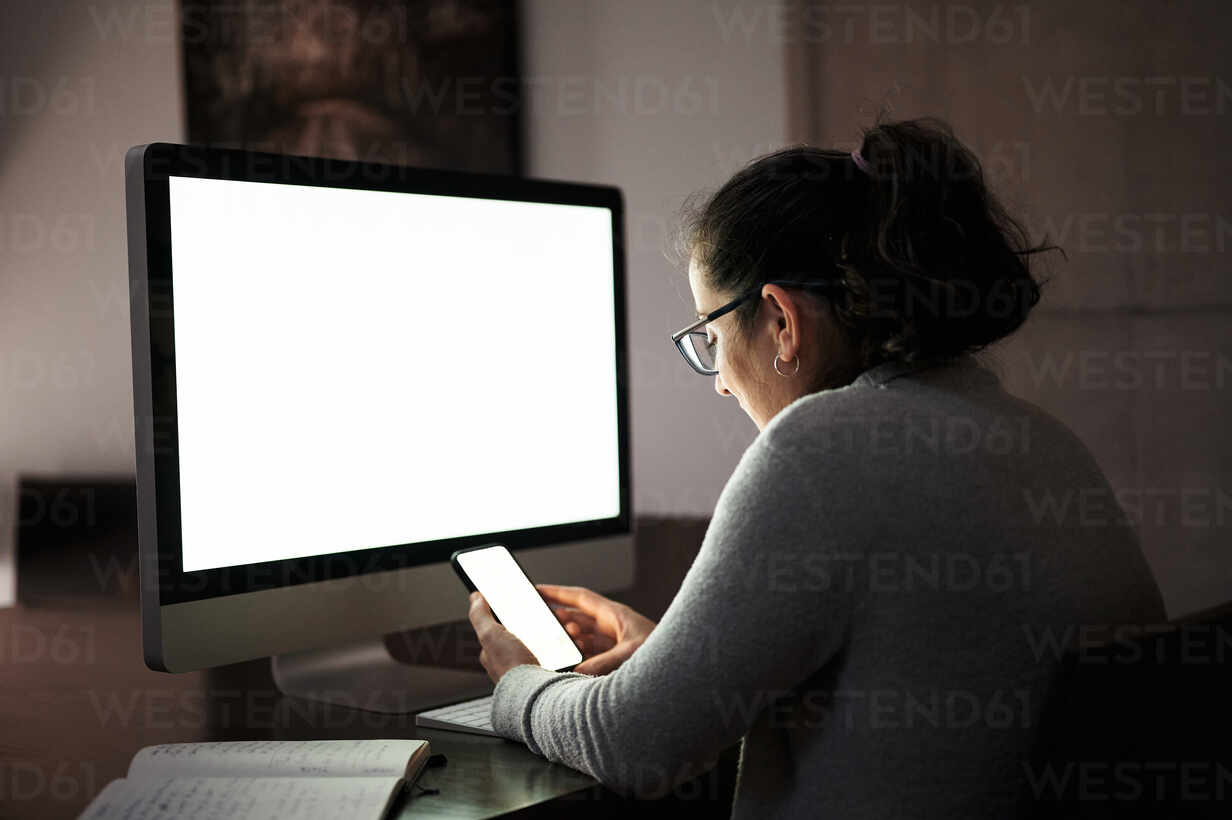Cell Phone: (449, 539, 591, 681)
